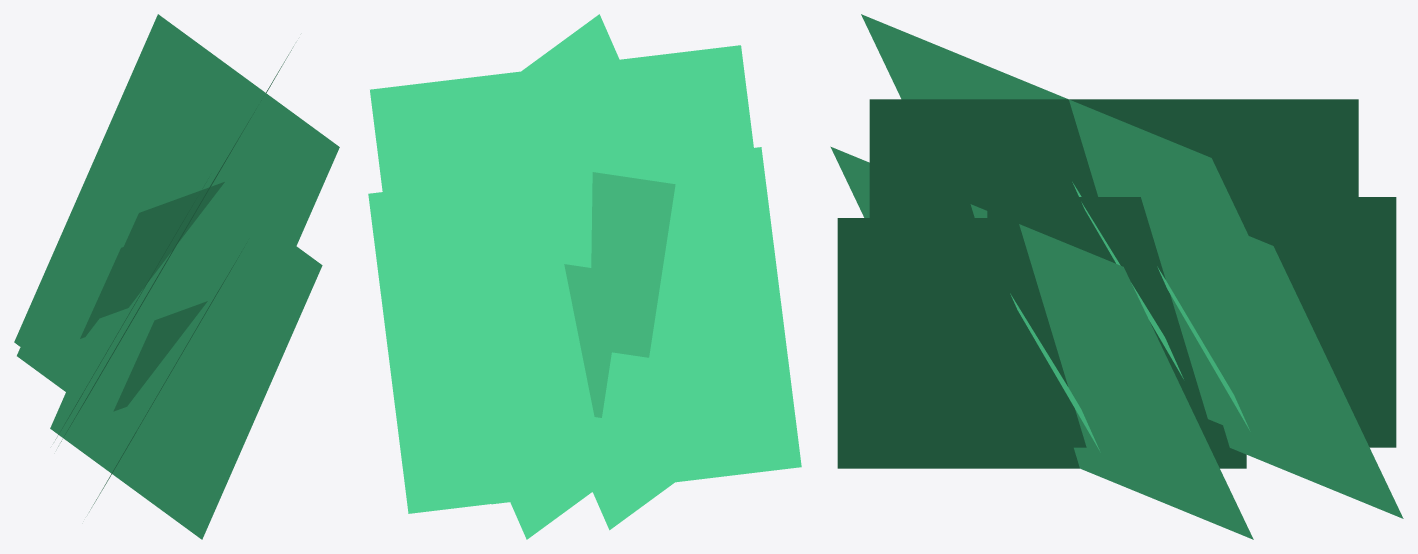
The model's file is SM_Bush_03.fbx.
3 renders of one model, left to right at view 1: azimuth 30°, elevation 25°; view 2: azimuth 150°, elevation 25°; view 3: azimuth 270°, elevation 25°, orthographic. The views are drawn at different scales.
Parts seen in each view (by area): view 1: pPlane25; view 2: pPlane25; view 3: pPlane25.
Part boxes in pixels (box(x1,y1,x2,y2)): pPlane25: box(14, 14, 339, 539); pPlane25: box(368, 14, 801, 539); pPlane25: box(830, 14, 1403, 539).
Size of the model in its own units: 293 by 301 by 335.
